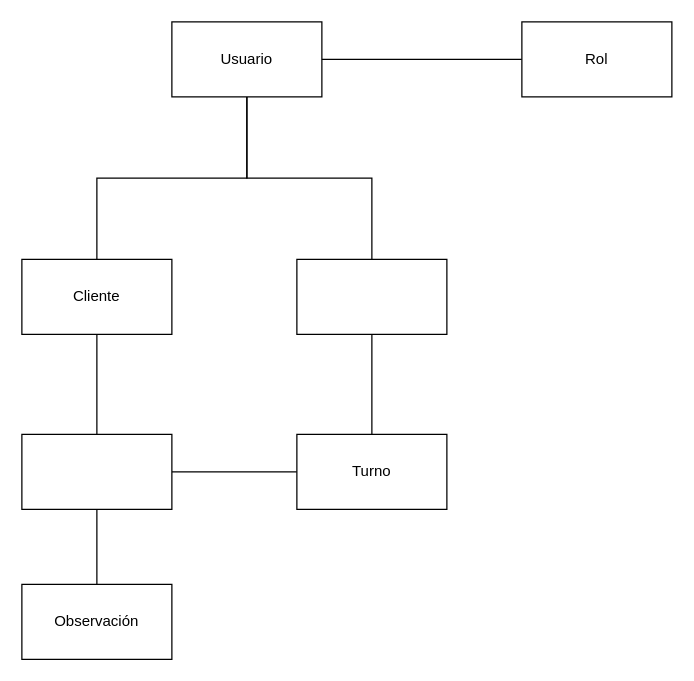
Image size: 694x681. Some labels were removed from this diagram. Here are the shapes that lost their labels. From the top down, the box of each, then its label:
(296, 258, 447, 334): Profesional
(21, 433, 172, 509): Mascota
